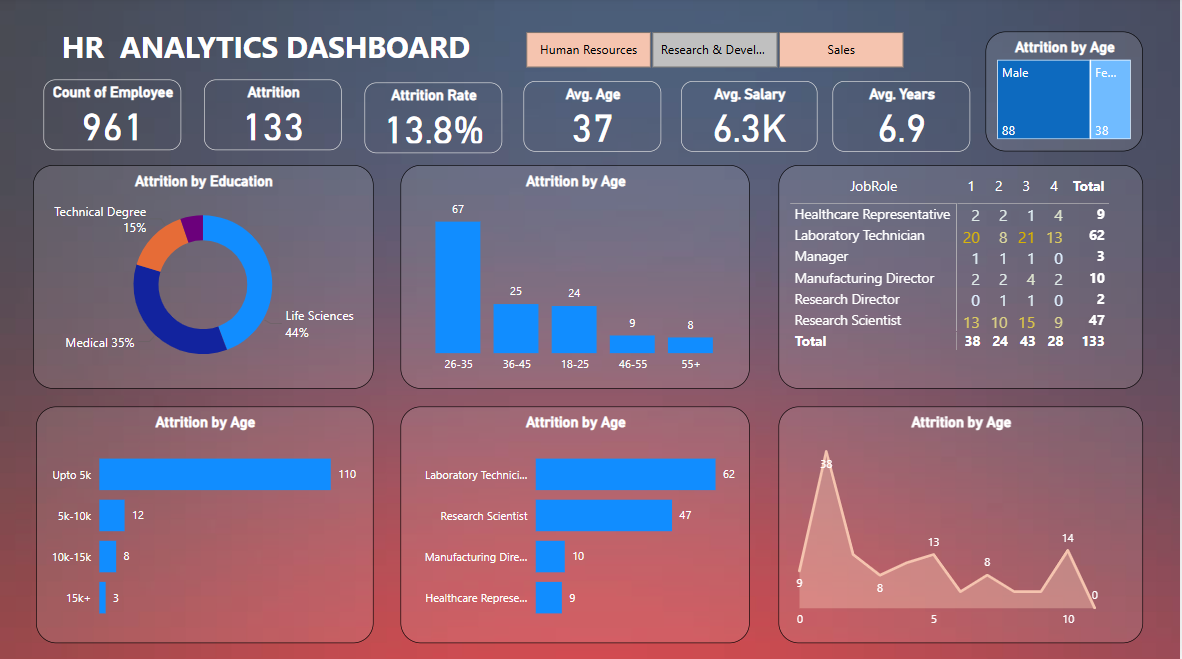

Layout of this report page (visuals, bound fields, positions):
{"tool":"powerbi","page":{"name":"Page 1","canvas":[1280,720],"ordinal":0},"visuals":[{"type":"card","title":"Count of Employee","fields":{"Values":["CountNonNull(HR_Analytics (2).EmpID)"]},"box":[47.2,89.5,149.6,76.4],"z":0},{"type":"card","title":"Attrition Rate","fields":{"Values":["HR_Analytics (2).AttriritionRate"]},"box":[395.3,92.7,149.6,76.4],"z":1000},{"type":"card","title":"Attrition  ","fields":{"Values":["Sum(HR_Analytics (2).Attrition - Copy)"]},"box":[221.2,89.5,149.6,76.4],"z":2000},{"type":"card","title":"Avg. Age","fields":{"Values":["Avg(HR_Analytics (2).Age)"]},"box":[567.7,91.1,149.6,76.4],"z":3000},{"type":"card","title":"Avg. Salary","fields":{"Values":["Avg(HR_Analytics (2).MonthlyIncome)"]},"box":[738.5,91.1,148,76.4],"z":4000},{"type":"card","title":"Avg. Years","fields":{"Values":["Avg(HR_Analytics (2).YearsAtCompany)"]},"box":[902.7,91.1,149.6,76.4],"z":5000},{"type":"donutChart","title":"Attrition by Education","fields":{"Category":["HR_Analytics (2).EducationField"],"Y":["Sum(HR_Analytics (2).Attrition - Copy)"]},"box":[35.8,182.2,369.2,242.4],"z":6000},{"type":"columnChart","title":"Attrition by Age","fields":{"Category":["HR_Analytics (2).AgeGroup"],"Y":["Sum(HR_Analytics (2).Attrition - Copy)"]},"box":[434.3,182.2,379,242.4],"z":7000},{"type":"pivotTable","fields":{"Rows":["HR_Analytics (2).JobRole"],"Columns":["HR_Analytics (2).JobSatisfaction"],"Values":["Sum(HR_Analytics (2).Attrition - Copy)"]},"box":[844.2,182.2,395.3,242.4],"z":8000},{"type":"barChart","title":"Attrition by Age","fields":{"Category":["HR_Analytics (2).SalarySlab"],"Y":["Sum(HR_Analytics (2).Attrition - Copy)"]},"box":[39,444,366,257],"z":9000},{"type":"barChart","title":"Attrition by Age","fields":{"Category":["HR_Analytics (2).JobRole"],"Y":["Sum(HR_Analytics (2).Attrition - Copy)"]},"box":[434.3,444,379,257],"z":10000},{"type":"areaChart","title":"Attrition by Age","fields":{"Category":["HR_Analytics (2).YearsAtCompany"],"Y":["Sum(HR_Analytics (2).Attrition - Copy)"]},"box":[844.2,444,395.3,257],"z":11000},{"type":"treemap","title":"Attrition by Age","fields":{"Group":["HR_Analytics (2).Gender"],"Values":["Sum(HR_Analytics (2).Attrition - Copy)"]},"box":[1068.6,37.4,170.8,130.1],"z":12000},{"type":"slicer","fields":{"Values":["HR_Analytics (2).Department"]},"box":[544.9,30.9,458.7,52],"z":13000},{"type":"textbox","box":[61.8,26,496.1,76.4],"z":14000}]}

Visuals, with their boxes in screenshot pixels (x1, y1, x2, y2), scaled from the page's 1280x720 canvas onto the 1182x659 screenshot:
"Count of Employee" card: [left=44, top=82, right=182, bottom=152]
"Attrition Rate" card: [left=365, top=85, right=503, bottom=155]
"Attrition  " card: [left=204, top=82, right=342, bottom=152]
"Avg. Age" card: [left=524, top=83, right=662, bottom=153]
"Avg. Salary" card: [left=682, top=83, right=819, bottom=153]
"Avg. Years" card: [left=834, top=83, right=972, bottom=153]
"Attrition by Education" donutChart: [left=33, top=167, right=374, bottom=389]
"Attrition by Age" columnChart: [left=401, top=167, right=751, bottom=389]
pivotTable - HR_Analytics (2).JobRole x HR_Analytics (2).JobSatisfaction: [left=780, top=167, right=1145, bottom=389]
"Attrition by Age" barChart: [left=36, top=406, right=374, bottom=642]
"Attrition by Age" barChart: [left=401, top=406, right=751, bottom=642]
"Attrition by Age" areaChart: [left=780, top=406, right=1145, bottom=642]
"Attrition by Age" treemap: [left=987, top=34, right=1145, bottom=153]
slicer - HR_Analytics (2).Department: [left=503, top=28, right=927, bottom=76]
textbox: [left=57, top=24, right=515, bottom=94]
